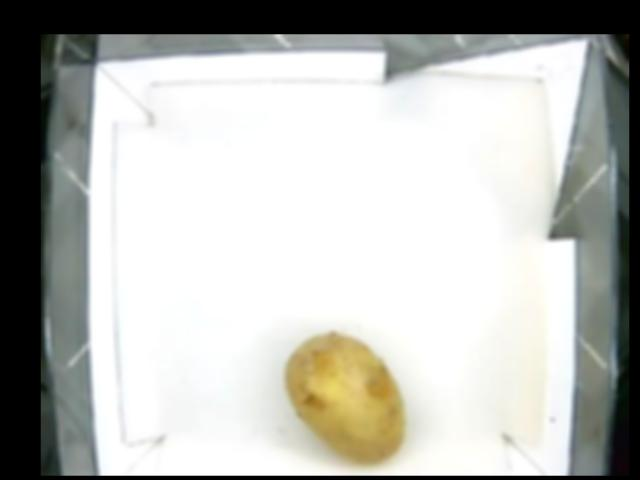Potato: (284, 331, 406, 465)
